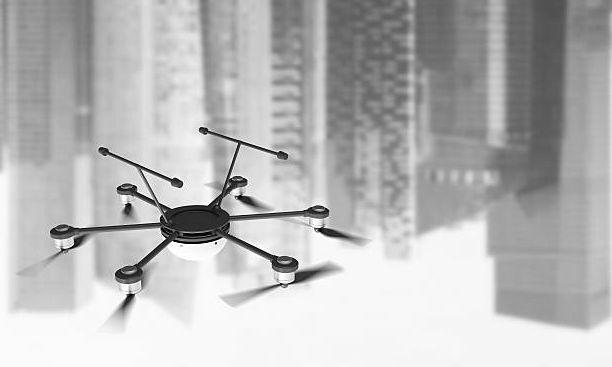Drone: (16, 123, 373, 328)
